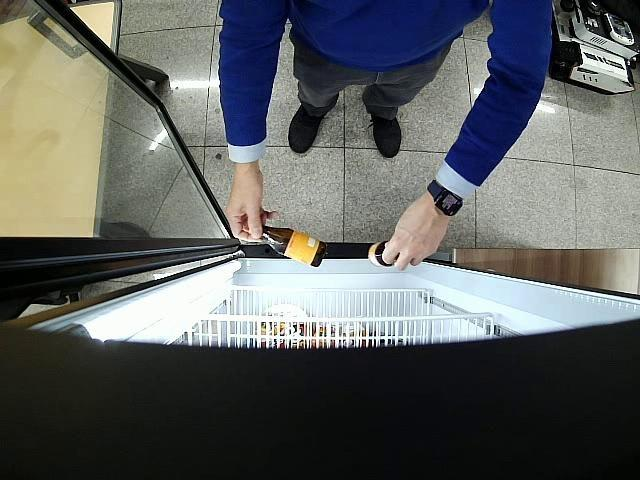17_vita500: (243, 223, 327, 267), (369, 241, 392, 266)
